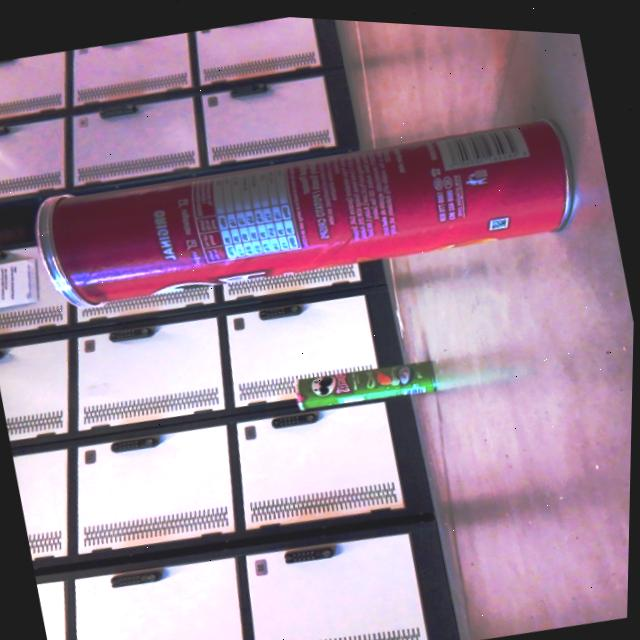greenpringles: (282, 332, 459, 432)
redpringles: (12, 73, 598, 354)
